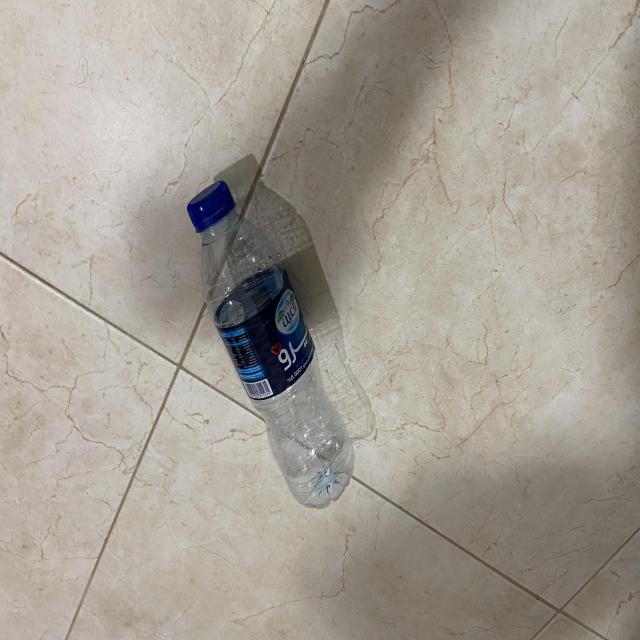plastic: (185, 175, 357, 509)
